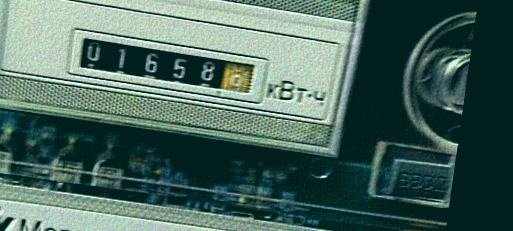0: (84, 40, 104, 63)
1: (113, 45, 130, 71)
5: (170, 55, 190, 81)
6: (142, 50, 163, 76)
8: (198, 59, 218, 83)
9: (226, 71, 245, 94)
screen: (62, 23, 274, 109)
